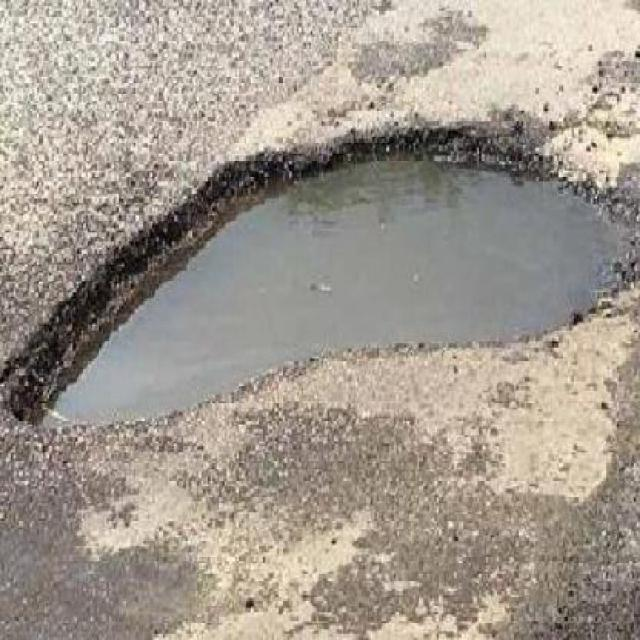pothole: (6, 122, 640, 440)
